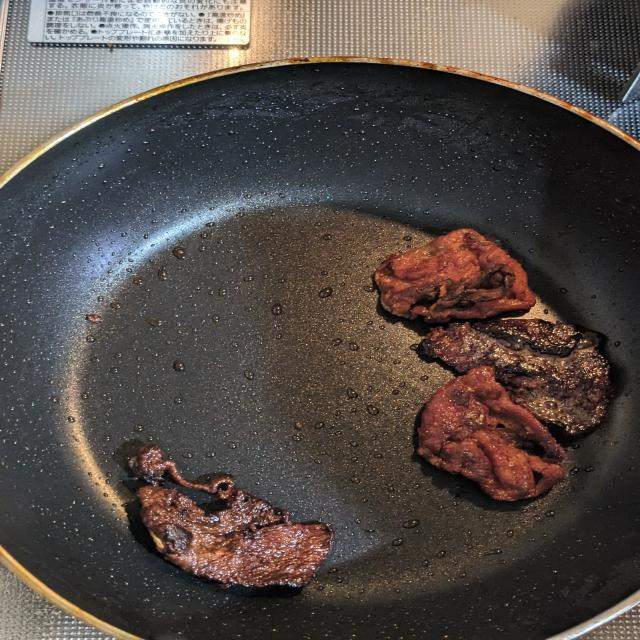overcooked beef,: (131, 444, 344, 603), (421, 317, 621, 439)
overcooked pork: (412, 358, 580, 510), (371, 222, 550, 325)
